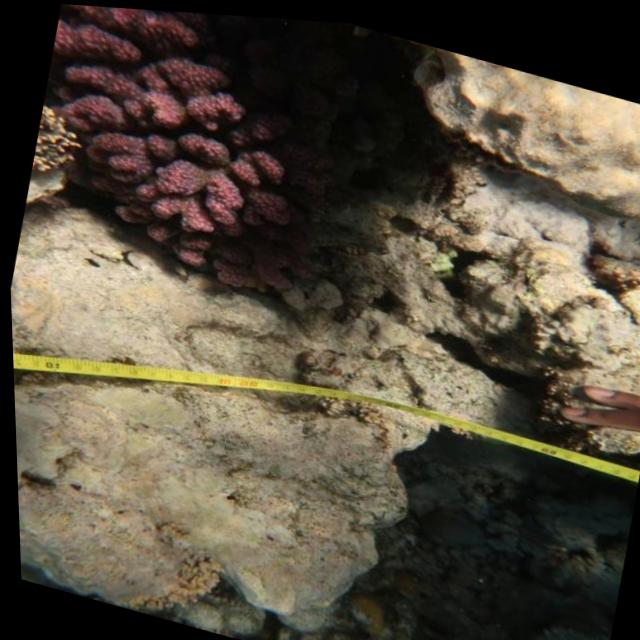Healthy Coral: (11, 1, 351, 306)
